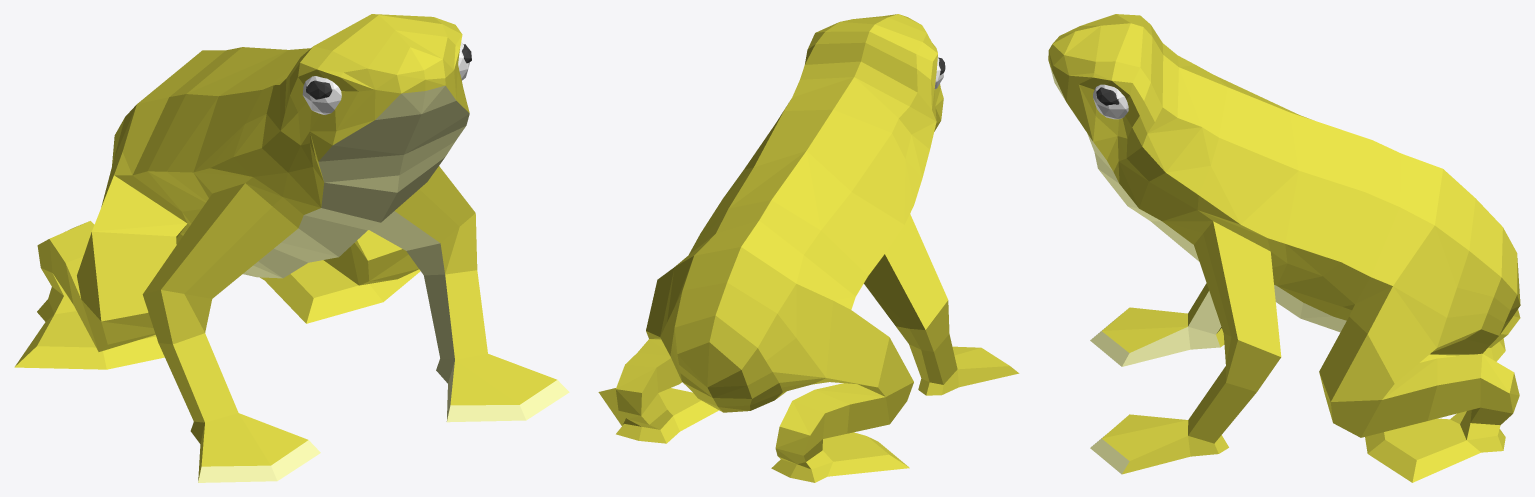
Rendered from frog_model.fbx.
3 renders of one model, left to right at view 1: azimuth 30°, elevation 25°; view 2: azimuth 150°, elevation 25°; view 3: azimuth 270°, elevation 25°, orthographic. The views are drawn at different scales.
Parts seen in each view (by area): view 1: Frog Eyes.001; view 2: Frog Eyes.001; view 3: Frog Eyes.001.
Part boxes in pixels (x1,y1,x2,y2): Frog Eyes.001: (14, 14, 569, 482); Frog Eyes.001: (598, 14, 1019, 482); Frog Eyes.001: (1048, 14, 1520, 482).
Bounding box in the file's own units: 157 × 153 × 176.
